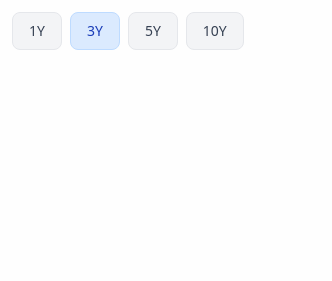
it: CAGR Indicators - Task 7.6 › CAGRPeriodSelector Component › displays period descriptions on hover
Hover over the button "3Y" at (95, 31), box x1=70 y1=12 x2=120 y2=50
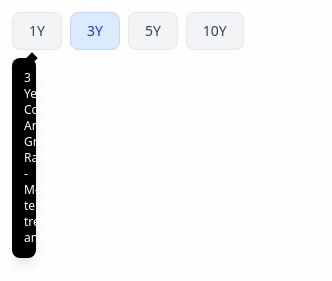
Now the text "3 Year Compound Annual Growth Rate" is shown, box x1=24 y1=69 x2=87 y2=246
